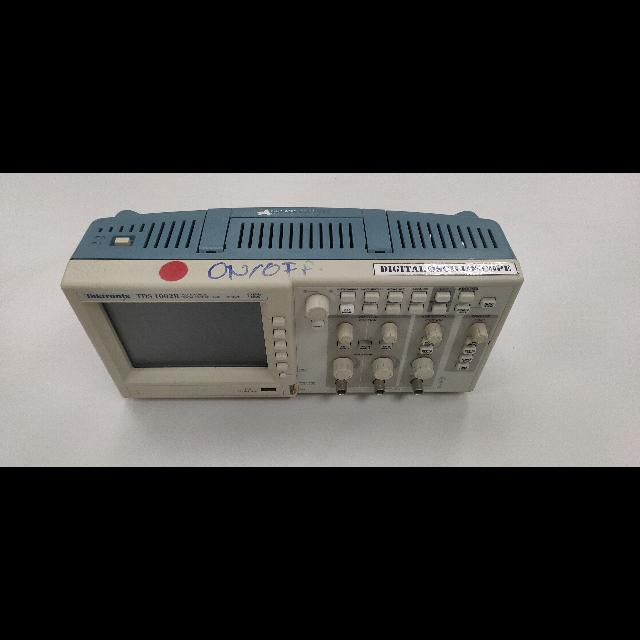Digital-Oscilloscope: (61, 208, 524, 400)
